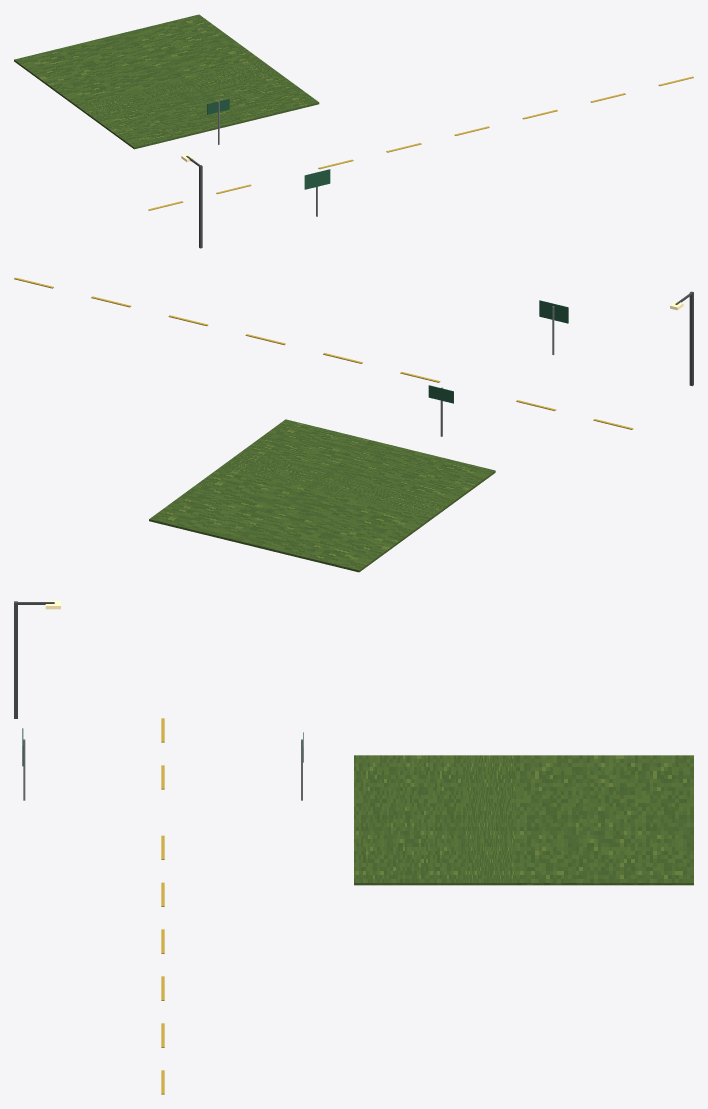
File: structure.glb
3 views of the same model, one above another, from view 1: azimuth 30°, elevation 25°; view 2: azimuth 150°, elevation 25°; view 3: azimuth 270°, elevation 25° (orthographic). The views are drawn at different scales.
Visible parts, largest first — view 1: Box3, Box1, Box2, Box4, Box14; view 2: Box3, Box1, Box2, Box4, Box14, Box17; view 3: Box3, Box1, Box2, Box4.
Part boxes in pixels (x1,y1,x2,y2): Box3: (14, 14, 261, 106); Box1: (95, 74, 319, 149); Box2: (80, 63, 279, 120); Box4: (77, 60, 264, 109); Box14: (304, 169, 330, 189); Box3: (149, 467, 430, 572); Box1: (241, 419, 495, 504); Box2: (224, 452, 451, 517); Box4: (221, 464, 434, 519); Box14: (539, 300, 568, 323); Box17: (689, 291, 693, 386); Box3: (516, 755, 693, 885); Box1: (354, 755, 465, 885); Box2: (465, 755, 506, 885); Box4: (507, 755, 516, 885).
Size of the model in its own units: 32.2 by 4.72 by 24.49.
6 materials, 1 textured.
